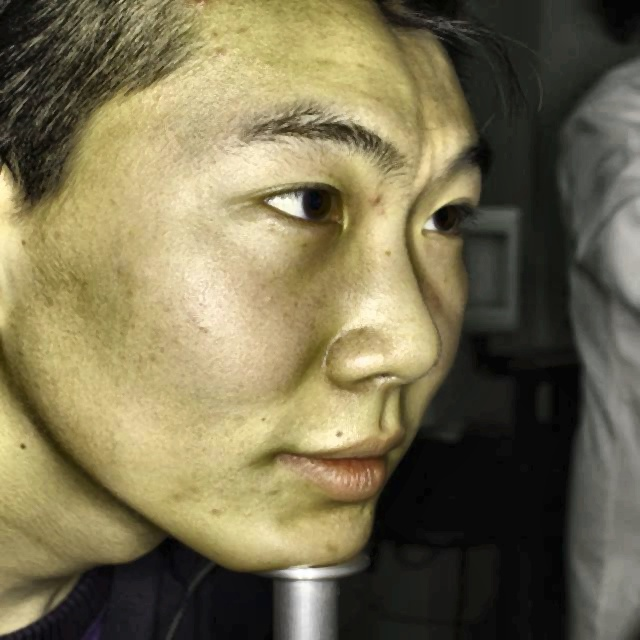comedone: (349, 185, 399, 219)
